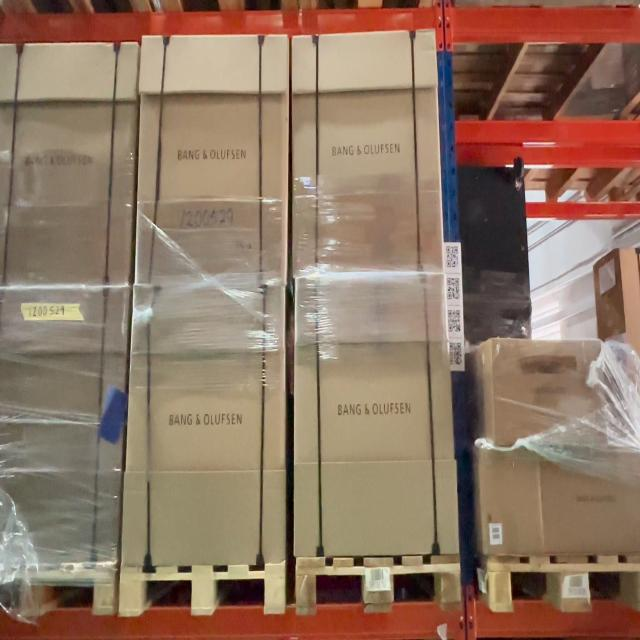box: (296, 273, 460, 554), (122, 286, 287, 561), (134, 36, 287, 282), (293, 35, 438, 272), (493, 340, 609, 445), (480, 449, 547, 556)
